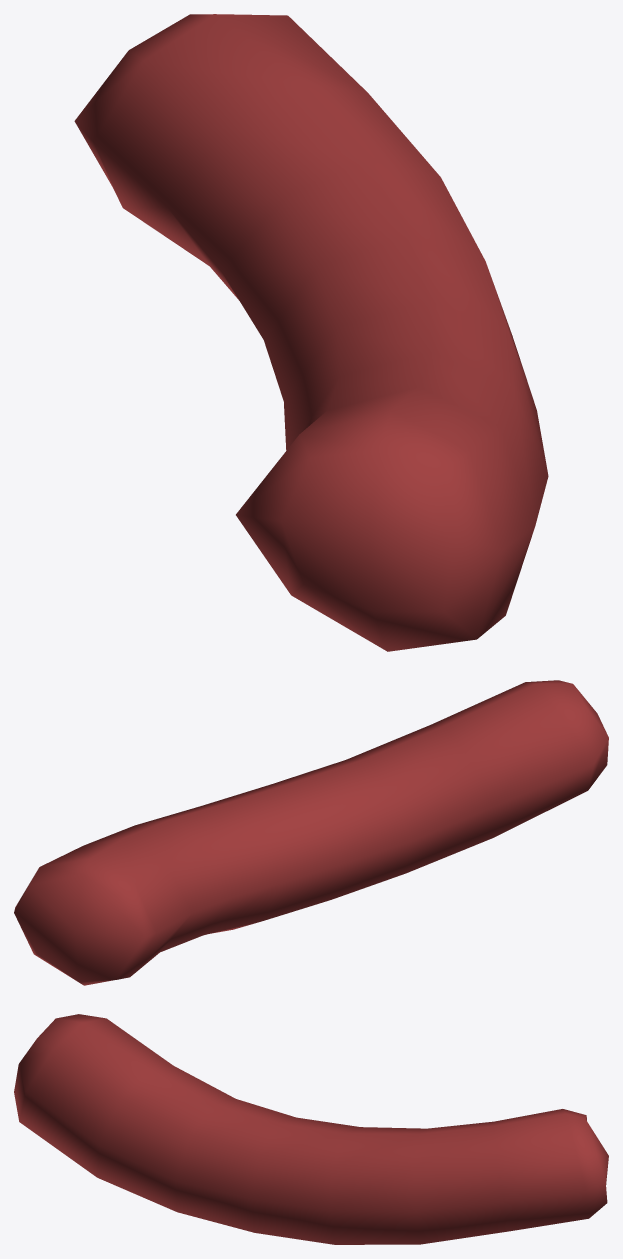
The model's file is plantar-tendon-sheath-of-fibularis-longus-muscle-l.glb.
3 views of the same model, one above another, from view 1: azimuth 30°, elevation 25°; view 2: azimuth 150°, elevation 25°; view 3: azimuth 270°, elevation 25° (orthographic). The views are drawn at different scales.
Visible parts, largest first — view 1: Plantar tendon sheath of fibularis longus muscle.l; view 2: Plantar tendon sheath of fibularis longus muscle.l; view 3: Plantar tendon sheath of fibularis longus muscle.l.
Part boxes in pixels (x1=…): Plantar tendon sheath of fibularis longus muscle.l: x1=74, y1=14, x2=548, y2=651; Plantar tendon sheath of fibularis longus muscle.l: x1=14, y1=680, x2=608, y2=985; Plantar tendon sheath of fibularis longus muscle.l: x1=14, y1=1014, x2=608, y2=1244.
Size of the model in its own units: 0.0147 by 0.00784 by 0.0275.
